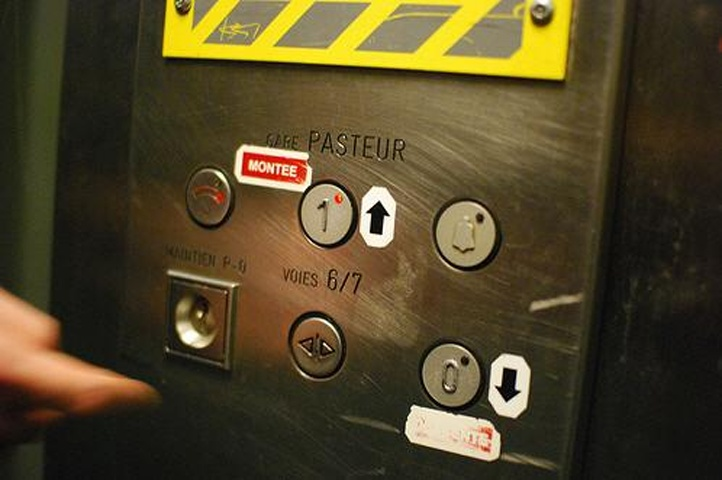0: (416, 337, 486, 412)
1: (298, 177, 359, 250)
alarm: (426, 194, 505, 275)
call: (186, 165, 232, 230)
open: (285, 306, 349, 384)
unknown: (158, 269, 238, 373)
